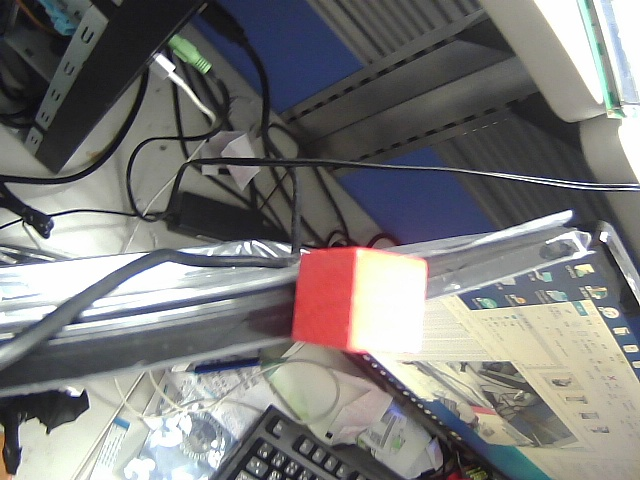redbox: (283, 242, 435, 374)
